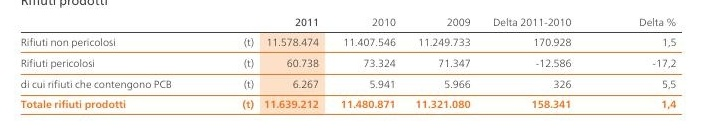table: (0, 0, 702, 132)
